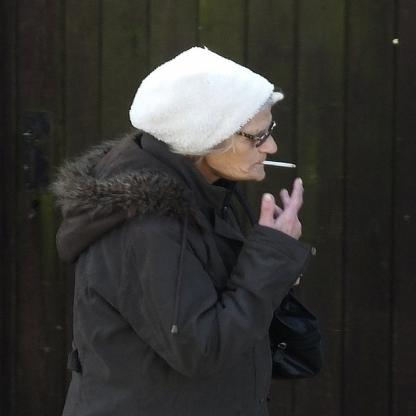smoking: (258, 161, 296, 167)
